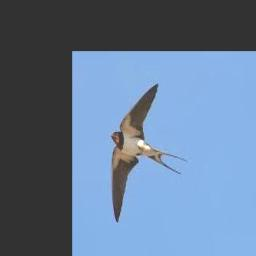Swallow: (109, 83, 187, 223)
